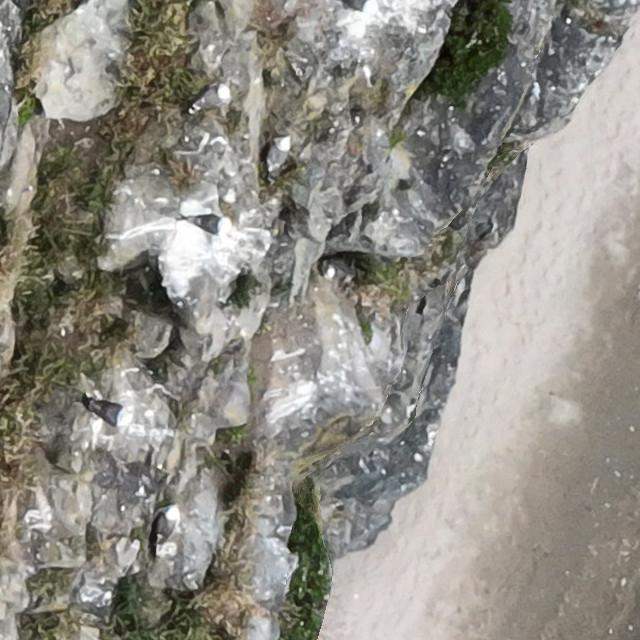umineko: (152, 502, 178, 546), (92, 402, 134, 428), (185, 213, 235, 234), (194, 85, 227, 108), (266, 140, 288, 172), (324, 262, 354, 281), (340, 0, 370, 10)
